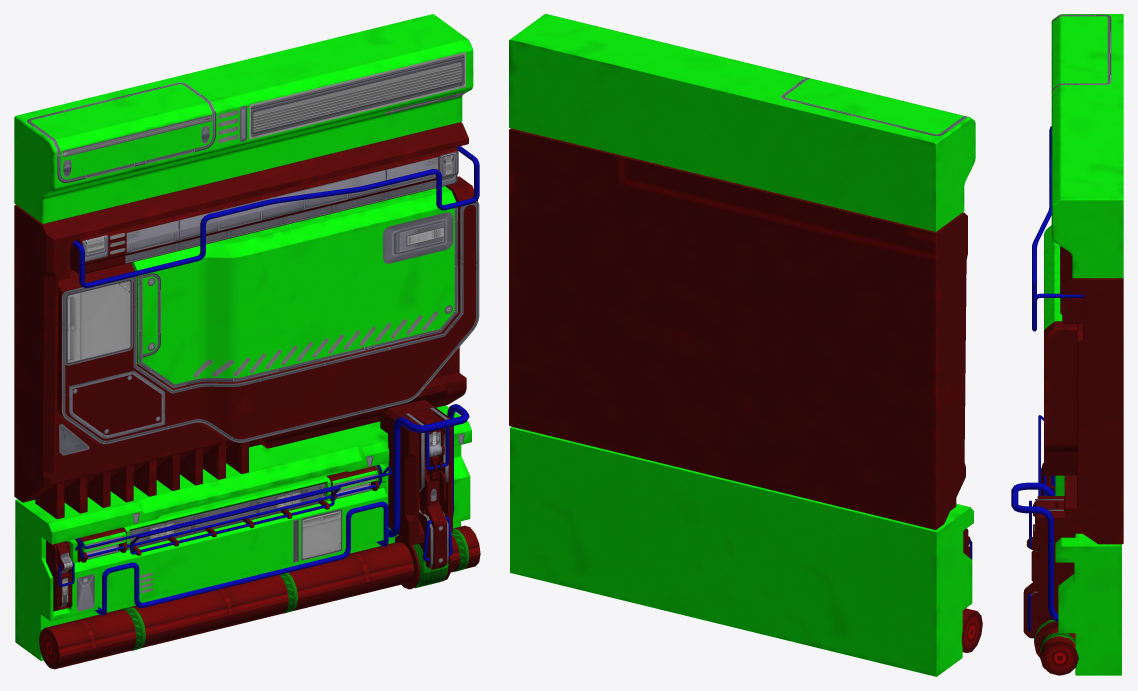
The model's file is SM_ModuleWall_5_5_x_6_5.gltf.
3 views of the same model, side by side, from view 1: azimuth 30°, elevation 25°; view 2: azimuth 150°, elevation 25°; view 3: azimuth 270°, elevation 25° (orthographic). The views are drawn at different scales.
Visible parts, largest first — view 1: SM_ModuleWall_5_5_x_6_5; view 2: SM_ModuleWall_5_5_x_6_5; view 3: SM_ModuleWall_5_5_x_6_5.
Boxes of the visible parts, x1,y1,x2,y2 form: SM_ModuleWall_5_5_x_6_5: (14, 14, 480, 669); SM_ModuleWall_5_5_x_6_5: (509, 14, 982, 676); SM_ModuleWall_5_5_x_6_5: (1011, 14, 1123, 675).
Bounding box in the file's own units: 2.51 × 3.03 × 0.6398.
2 materials, 2 textured.
